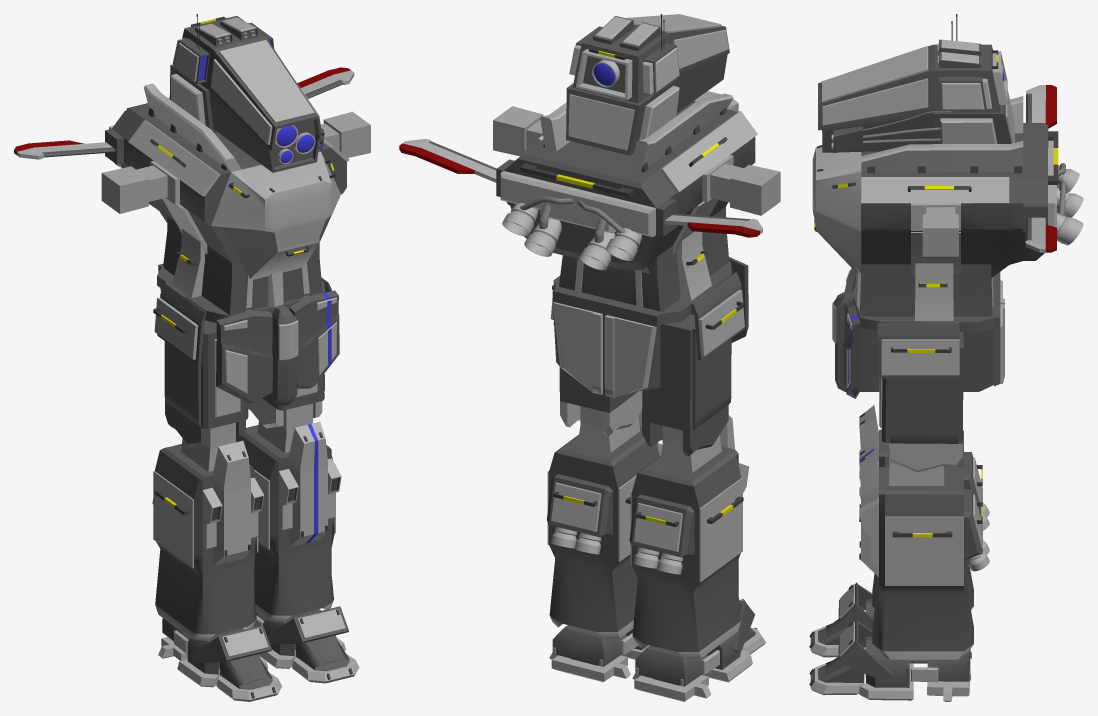
The model's file is Dash_MISCU_No_Arms_Test.fbx.
3 views of the same model, side by side, from view 1: azimuth 30°, elevation 25°; view 2: azimuth 150°, elevation 25°; view 3: azimuth 270°, elevation 25° (orthographic). The views are drawn at different scales.
Parts seen in each view (by area): view 1: UpperChest, LowerRightLeg, Head1, LowerLeftLeg, LowerChest, Waist2, UpperRightLeg, RightWaistSkirt, LeftToe, RightToe, LeftWaistSkirt, UpperLeftleg (+2 smaller); view 2: UpperChest, LowerRightLeg, LowerLeftLeg, Head1, Waist2, UpperRightLeg, LowerChest, RightFoot, LeftFoot, UpperLeftleg, RightToe, polySurface36 (+5 smaller); view 3: UpperChest, LowerLeftLeg, Head1, Waist2, UpperLeftleg, LowerChest, LeftFoot, LeftToe, LowerRightLeg, RightToe, LeftWaistSkirt, polySurface39.
Boxes of the visible parts, bbox=[...] form: UpperChest: bbox=[14, 67, 370, 279]; LowerRightLeg: bbox=[152, 438, 264, 641]; Head1: bbox=[169, 14, 324, 172]; LowerLeftLeg: bbox=[236, 421, 341, 622]; LowerChest: bbox=[163, 216, 322, 314]; Waist2: bbox=[153, 264, 332, 405]; UpperRightLeg: bbox=[164, 320, 248, 449]; RightWaistSkirt: bbox=[216, 310, 272, 403]; LeftToe: bbox=[267, 606, 359, 683]; RightToe: bbox=[190, 625, 282, 701]; LeftWaistSkirt: bbox=[289, 290, 339, 388]; UpperLeftleg: bbox=[248, 373, 324, 430]; UpperChest: bbox=[399, 91, 780, 273]; LowerRightLeg: bbox=[629, 415, 749, 659]; LowerLeftLeg: bbox=[547, 410, 662, 638]; Head1: bbox=[566, 14, 729, 155]; Waist2: bbox=[550, 261, 744, 397]; UpperRightLeg: bbox=[642, 314, 731, 455]; LowerChest: bbox=[559, 207, 729, 311]; RightFoot: bbox=[632, 634, 752, 701]; LeftFoot: bbox=[549, 625, 649, 682]; UpperLeftleg: bbox=[559, 367, 642, 436]; RightToe: bbox=[732, 599, 765, 654]; polySurface36: bbox=[524, 218, 561, 256]; UpperChest: bbox=[812, 85, 1056, 277]; LowerLeftLeg: bbox=[859, 442, 989, 659]; Head1: bbox=[818, 14, 1014, 153]; Waist2: bbox=[832, 272, 1004, 391]; UpperLeftleg: bbox=[879, 332, 963, 472]; LowerChest: bbox=[854, 248, 993, 320]; LeftFoot: bbox=[859, 636, 971, 701]; LeftToe: bbox=[809, 620, 892, 695]; LowerRightLeg: bbox=[859, 405, 989, 610]; RightToe: bbox=[809, 582, 873, 657]; LeftWaistSkirt: bbox=[843, 300, 860, 398]; polySurface39: bbox=[1055, 213, 1079, 243].
Bounding box in the file's own units: 6.83 × 12.35 × 4.82.
